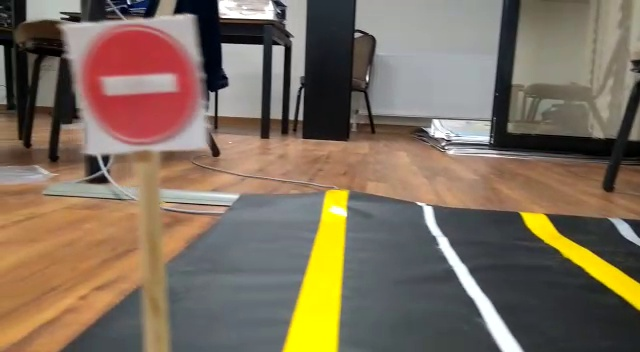girisi_olmayan_yol: (74, 24, 211, 145)
